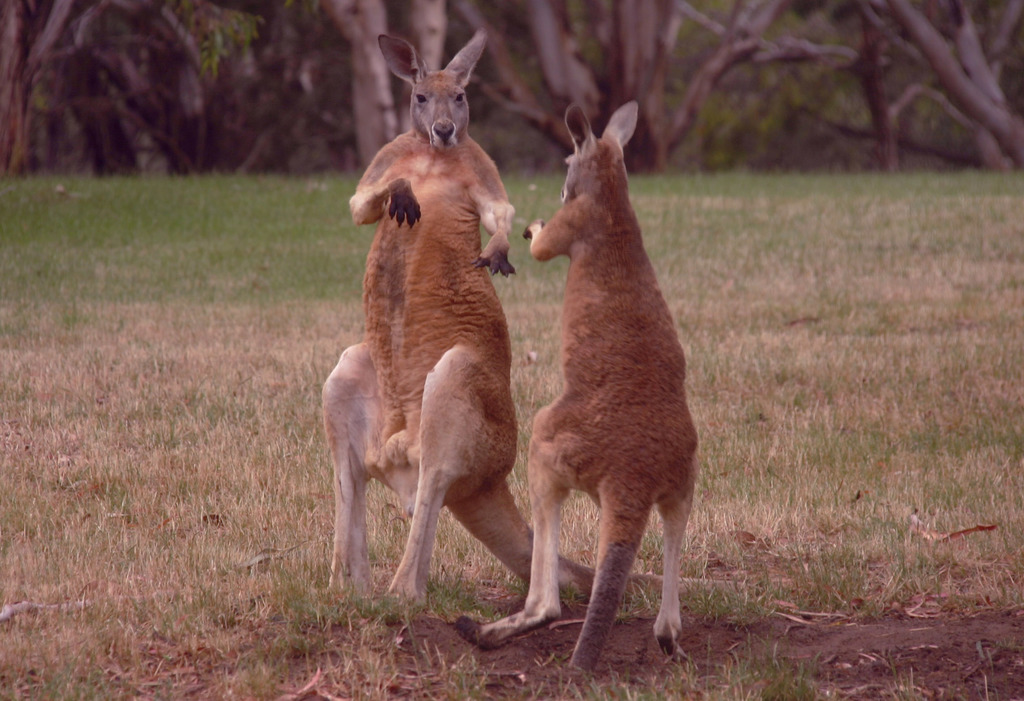kangaroo: (450, 93, 694, 662)
